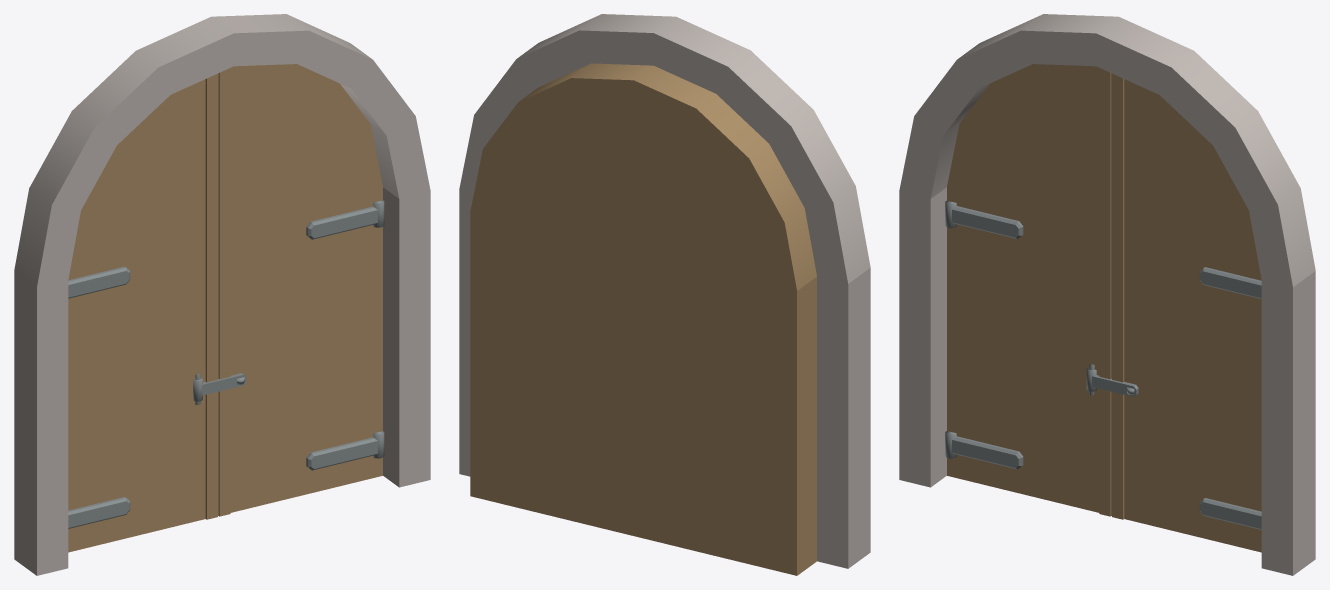
The model's file is large_doubledoor_arch.fbx.
3 renders of one model, left to right at view 1: azimuth 30°, elevation 25°; view 2: azimuth 150°, elevation 25°; view 3: azimuth 330°, elevation 25°, orthographic.
Visible parts, largest first — view 1: large_doubledoor_arch; view 2: large_doubledoor_arch; view 3: large_doubledoor_arch.
Part boxes in pixels (box(x1,y1,x2,y2)): large_doubledoor_arch: box(14, 14, 430, 575); large_doubledoor_arch: box(459, 14, 870, 575); large_doubledoor_arch: box(899, 14, 1315, 575).
Bounding box in the file's own units: 250 × 300 × 47.25.
